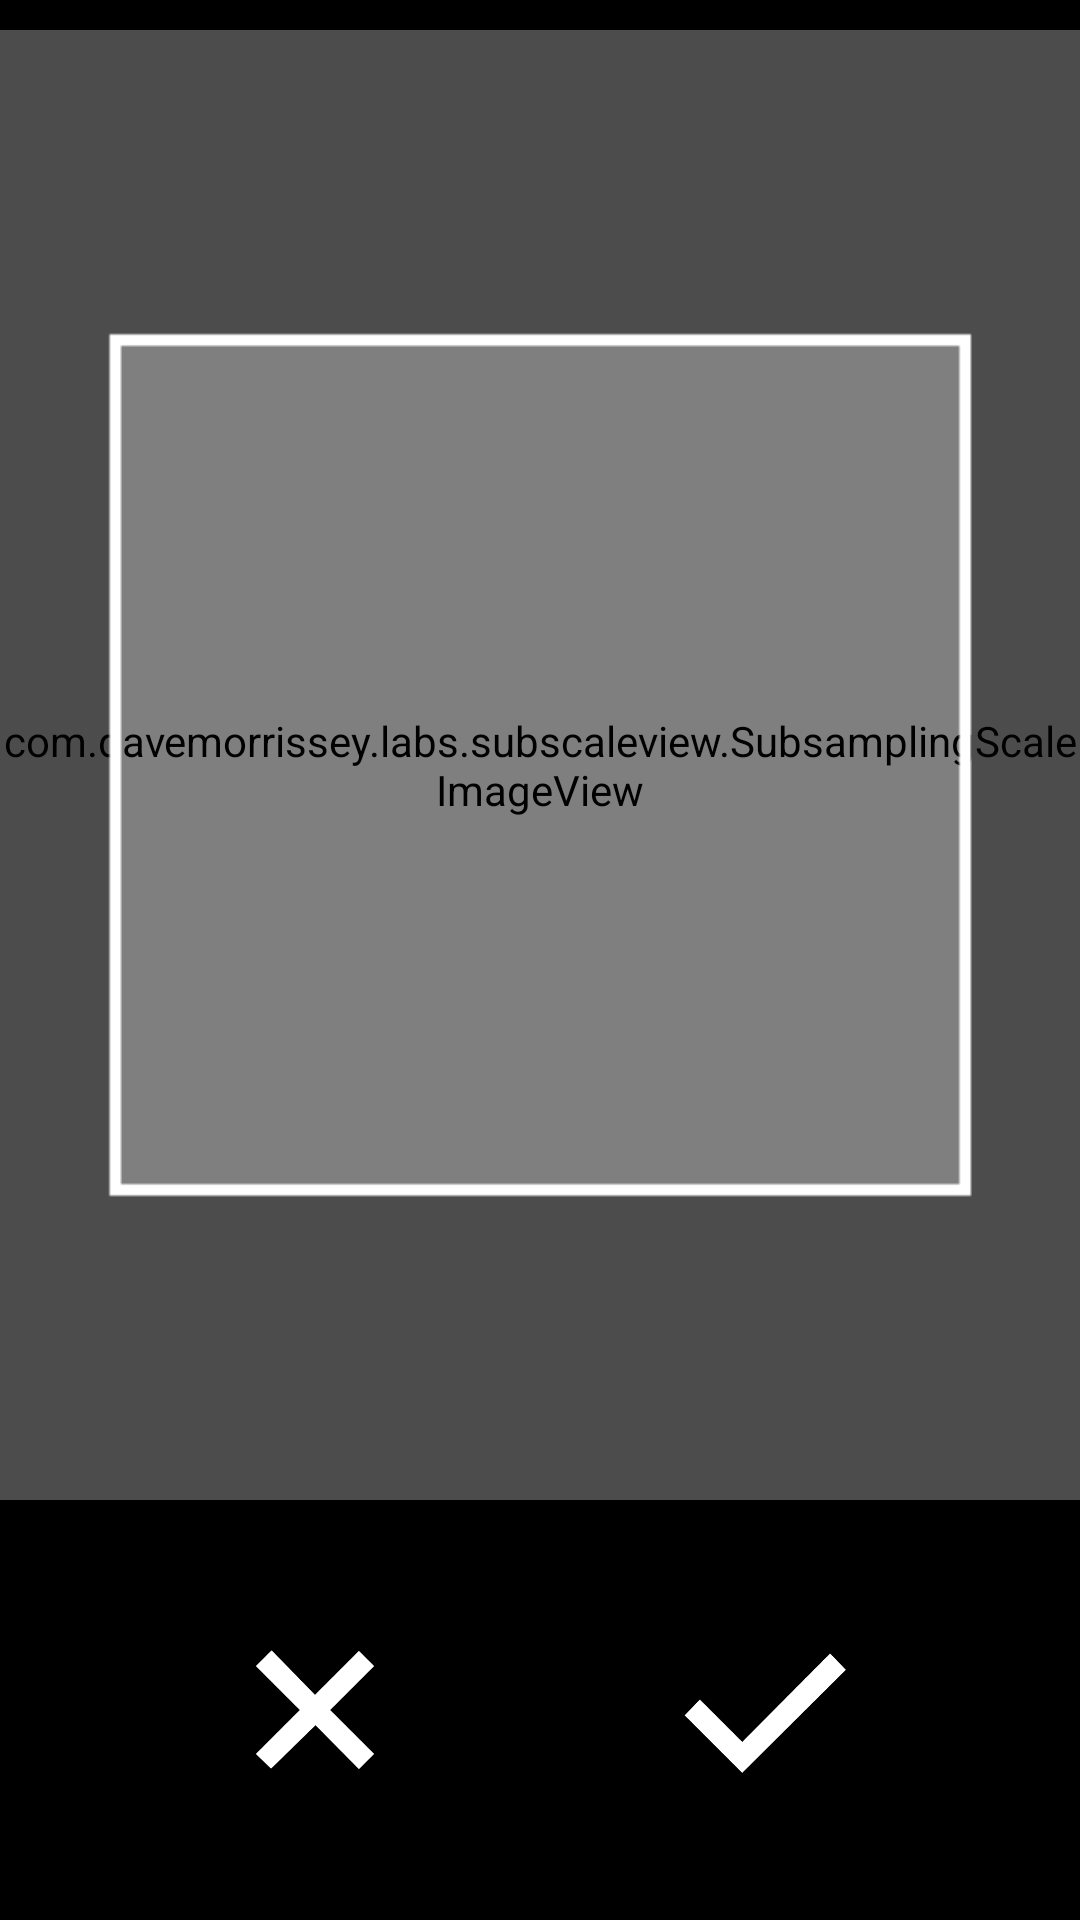

Point at icon controls on the screen. Image size 1080x1920, points as point (x, y).
no hook: point (315, 1709)
yes hook: point (765, 1713)
